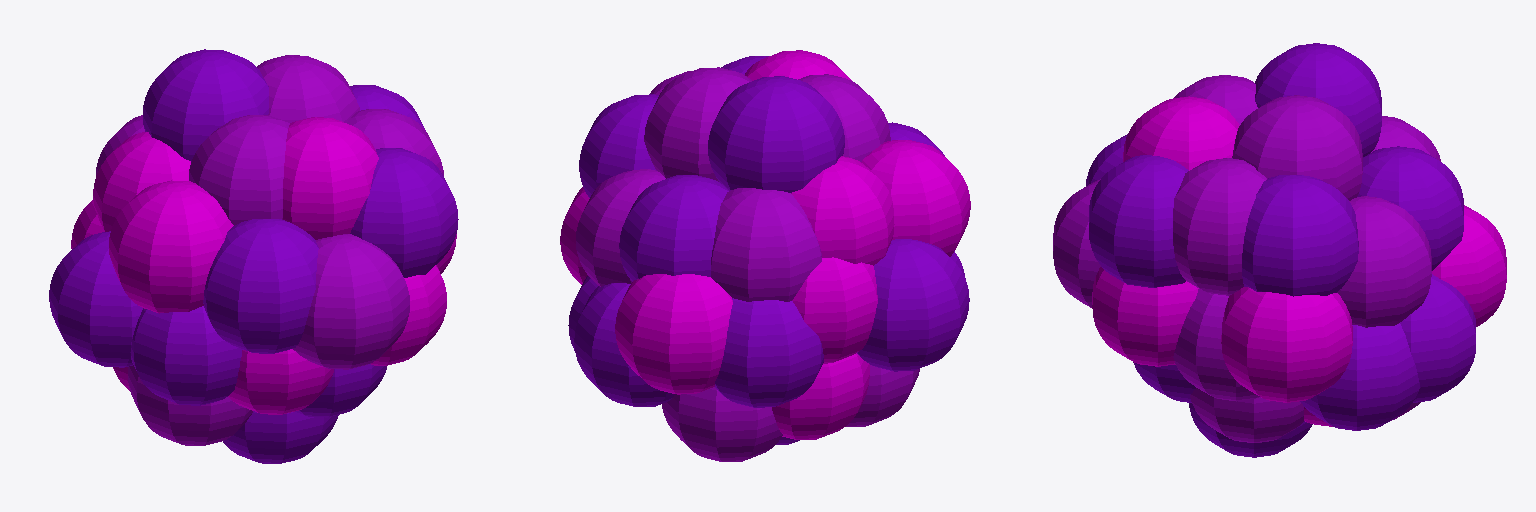
Rendered from Tradestation.obj.
3 renders of one model, left to right at view 1: azimuth 30°, elevation 25°; view 2: azimuth 150°, elevation 25°; view 3: azimuth 270°, elevation 25°, orthographic.
Parts seen in each view (by area): view 1: pSphere12, pSphere13, pSphere1, pSphere2, pSphere20, pSphere22, pSphere6, pSphere14, pSphere21, pSphere19, pSphere25, pSphere16 (+8 smaller); view 2: pSphere22, pSphere5, pSphere6, pSphere17, pSphere23, pSphere18, pSphere13, pSphere16, pSphere19, pSphere24, pSphere27, pSphere9 (+9 smaller); view 3: pSphere4, pSphere15, pSphere2, pSphere11, pSphere19, pSphere7, pSphere8, pSphere22, pSphere18, pSphere3, pSphere9, pSphere20 (+9 smaller).
Part boxes in pixels (bbox=[...]): pSphere12: bbox=[203, 219, 318, 353]; pSphere13: bbox=[109, 180, 233, 313]; pSphere1: bbox=[293, 234, 409, 369]; pSphere2: bbox=[350, 148, 458, 277]; pSphere20: bbox=[283, 117, 378, 239]; pSphere22: bbox=[143, 49, 268, 161]; pSphere6: bbox=[49, 231, 142, 367]; pSphere14: bbox=[131, 306, 242, 405]; pSphere21: bbox=[189, 115, 289, 225]; pSphere19: bbox=[257, 55, 359, 122]; pSphere25: bbox=[228, 349, 333, 414]; pSphere16: bbox=[93, 132, 190, 231]; pSphere22: bbox=[708, 76, 844, 192]; pSphere5: bbox=[615, 274, 732, 394]; pSphere6: bbox=[857, 239, 969, 371]; pSphere17: bbox=[711, 188, 821, 301]; pSphere23: bbox=[715, 298, 823, 407]; pSphere18: bbox=[619, 175, 728, 281]; pSphere13: bbox=[861, 140, 970, 256]; pSphere16: bbox=[791, 156, 894, 265]; pSphere19: bbox=[644, 67, 751, 181]; pSphere24: bbox=[792, 257, 877, 363]; pSphere27: bbox=[662, 387, 782, 461]; pSphere9: bbox=[574, 283, 674, 406]; pSphere4: bbox=[1221, 287, 1352, 402]; pSphere15: bbox=[1242, 175, 1358, 296]; pSphere2: bbox=[1089, 155, 1188, 287]; pSphere11: bbox=[1173, 158, 1266, 295]; pSphere19: bbox=[1232, 95, 1362, 200]; pSphere7: bbox=[1337, 196, 1431, 327]; pSphere8: bbox=[1300, 323, 1419, 430]; pSphere22: bbox=[1255, 43, 1381, 156]; pSphere18: bbox=[1357, 146, 1463, 270]; pSphere3: bbox=[1092, 267, 1198, 366]; pSphere9: bbox=[1400, 274, 1475, 402]; pSphere20: bbox=[1123, 96, 1239, 170].
Size of the model in its own units: 6.54 by 6.19 by 6.57.